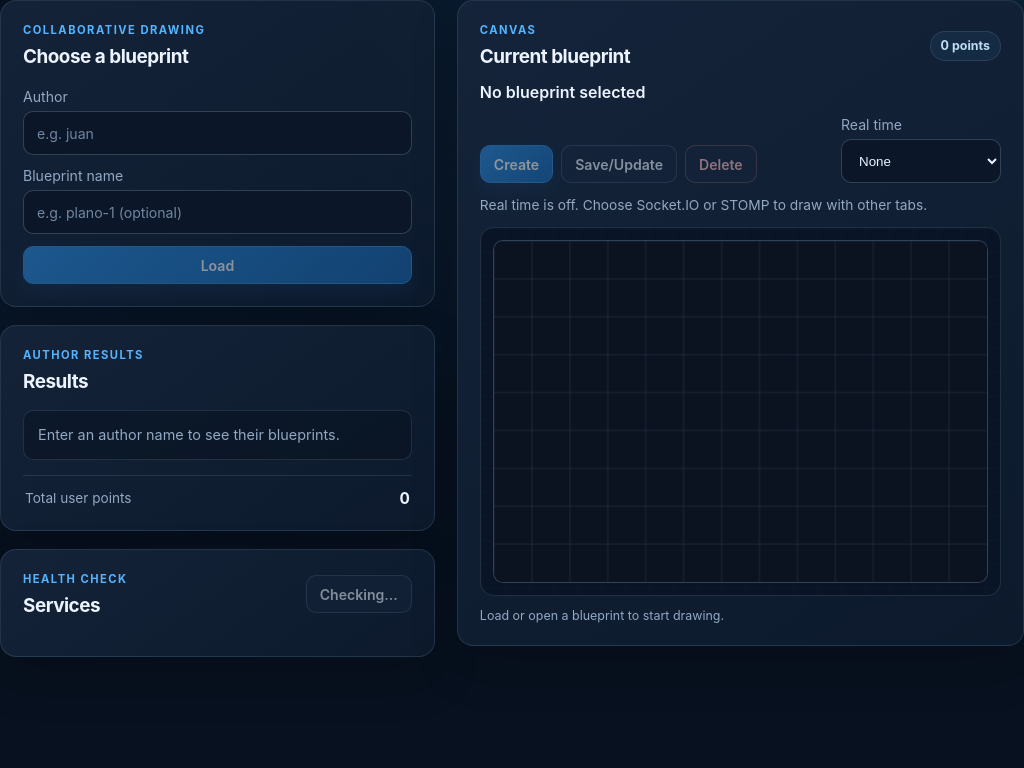
Test: RealtimeBlueprintPage › local drawing: clicking the canvas adds a point and redraws
Type "juan" into the field with placeholder "e.g. juan" at [217, 133], box top-left (23, 111), bottom-right (412, 155)
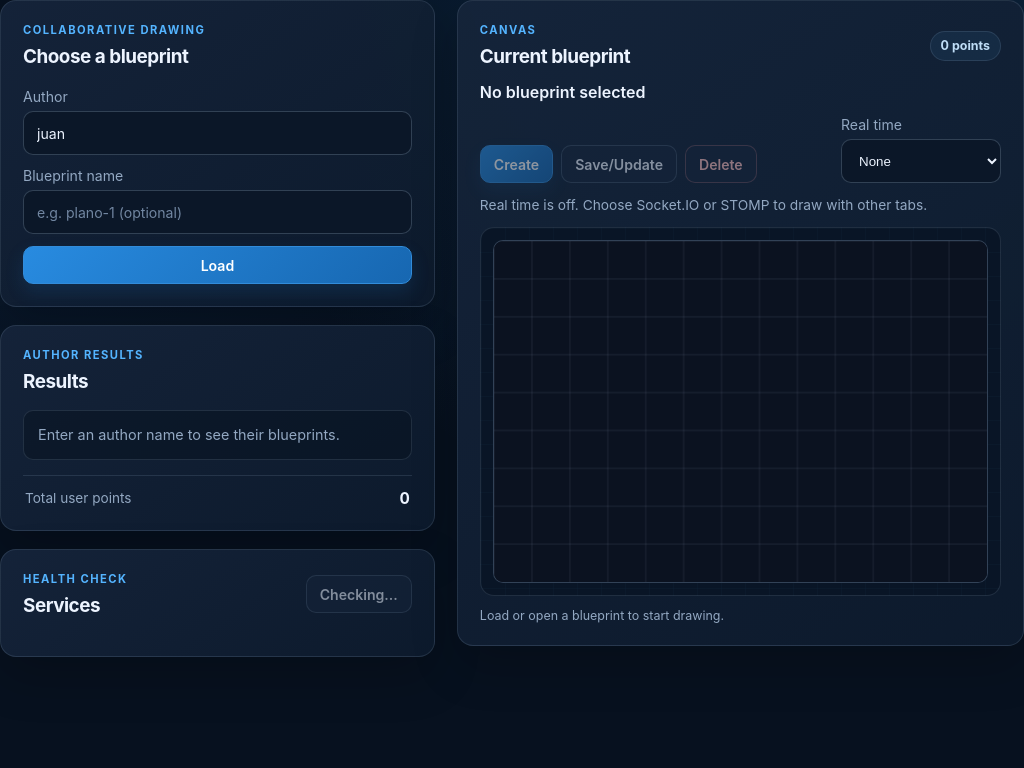
Type "plano-1" into the field with placeholder "e.g. plano-1 (optional)" at [217, 212], box top-left (23, 190), bottom-right (412, 234)
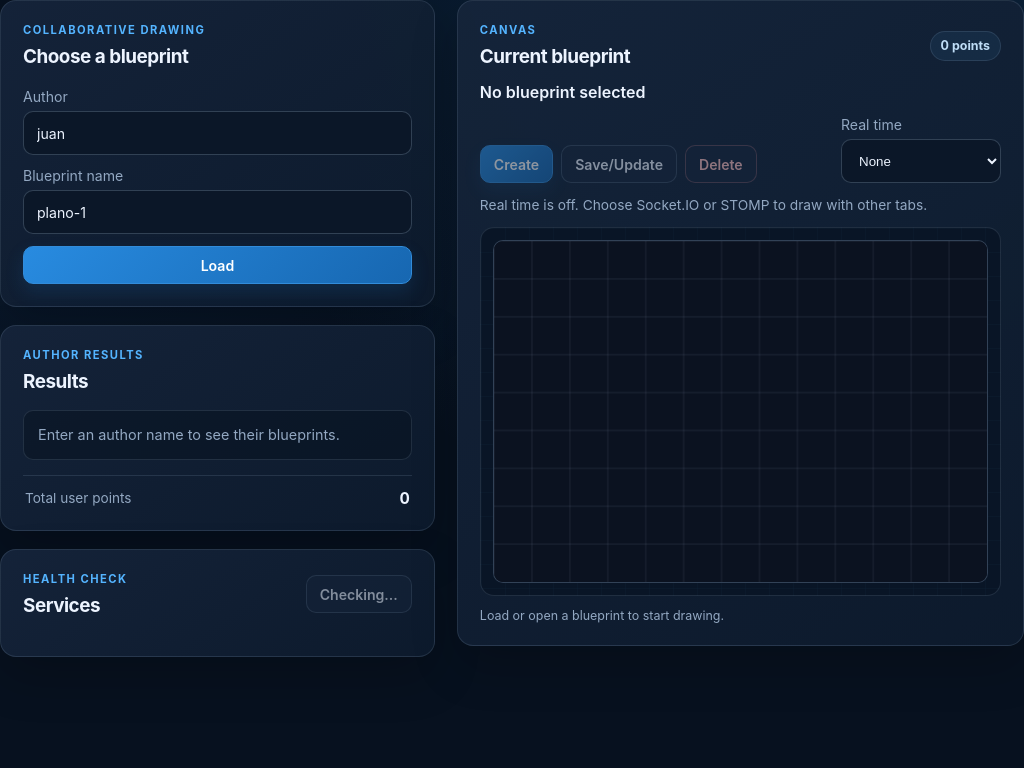
Click the button "Load" at [217, 265], box top-left (23, 246), bottom-right (412, 284)
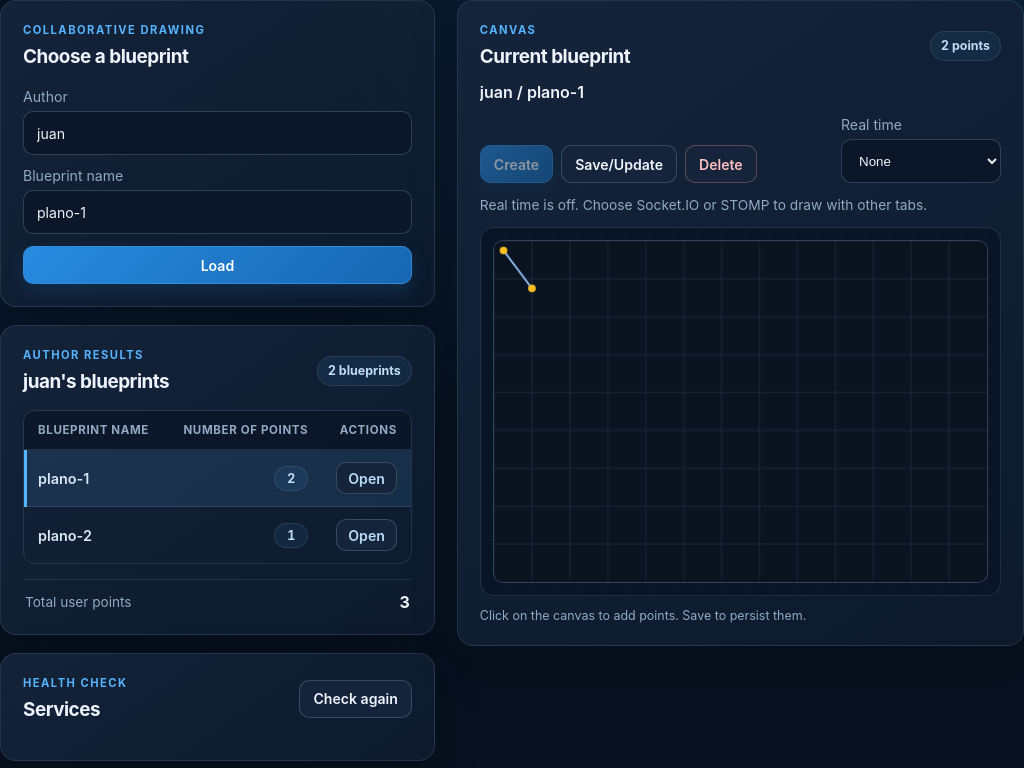
Expected: the text "2 points" is shown, top-left (930, 30), bottom-right (1001, 60)
Click the drawing with id "blueprint-canvas" at [740, 412], box top-left (493, 240), bottom-right (988, 583)
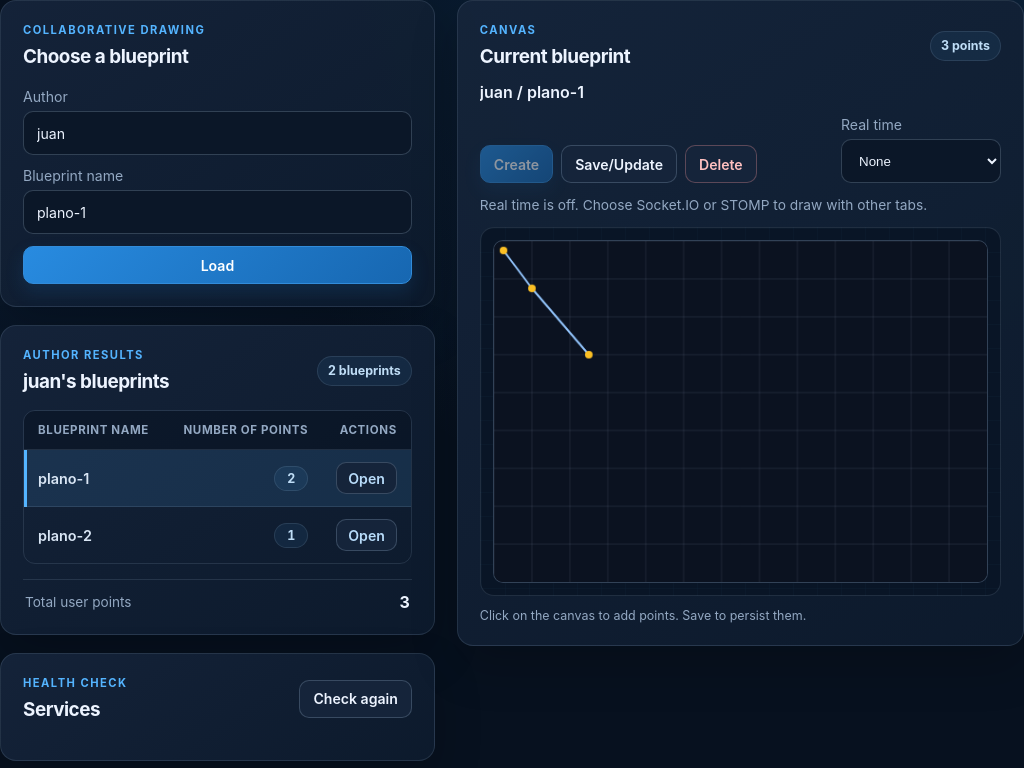
Expected: the text "3 points" is shown, top-left (930, 30), bottom-right (1001, 60)
